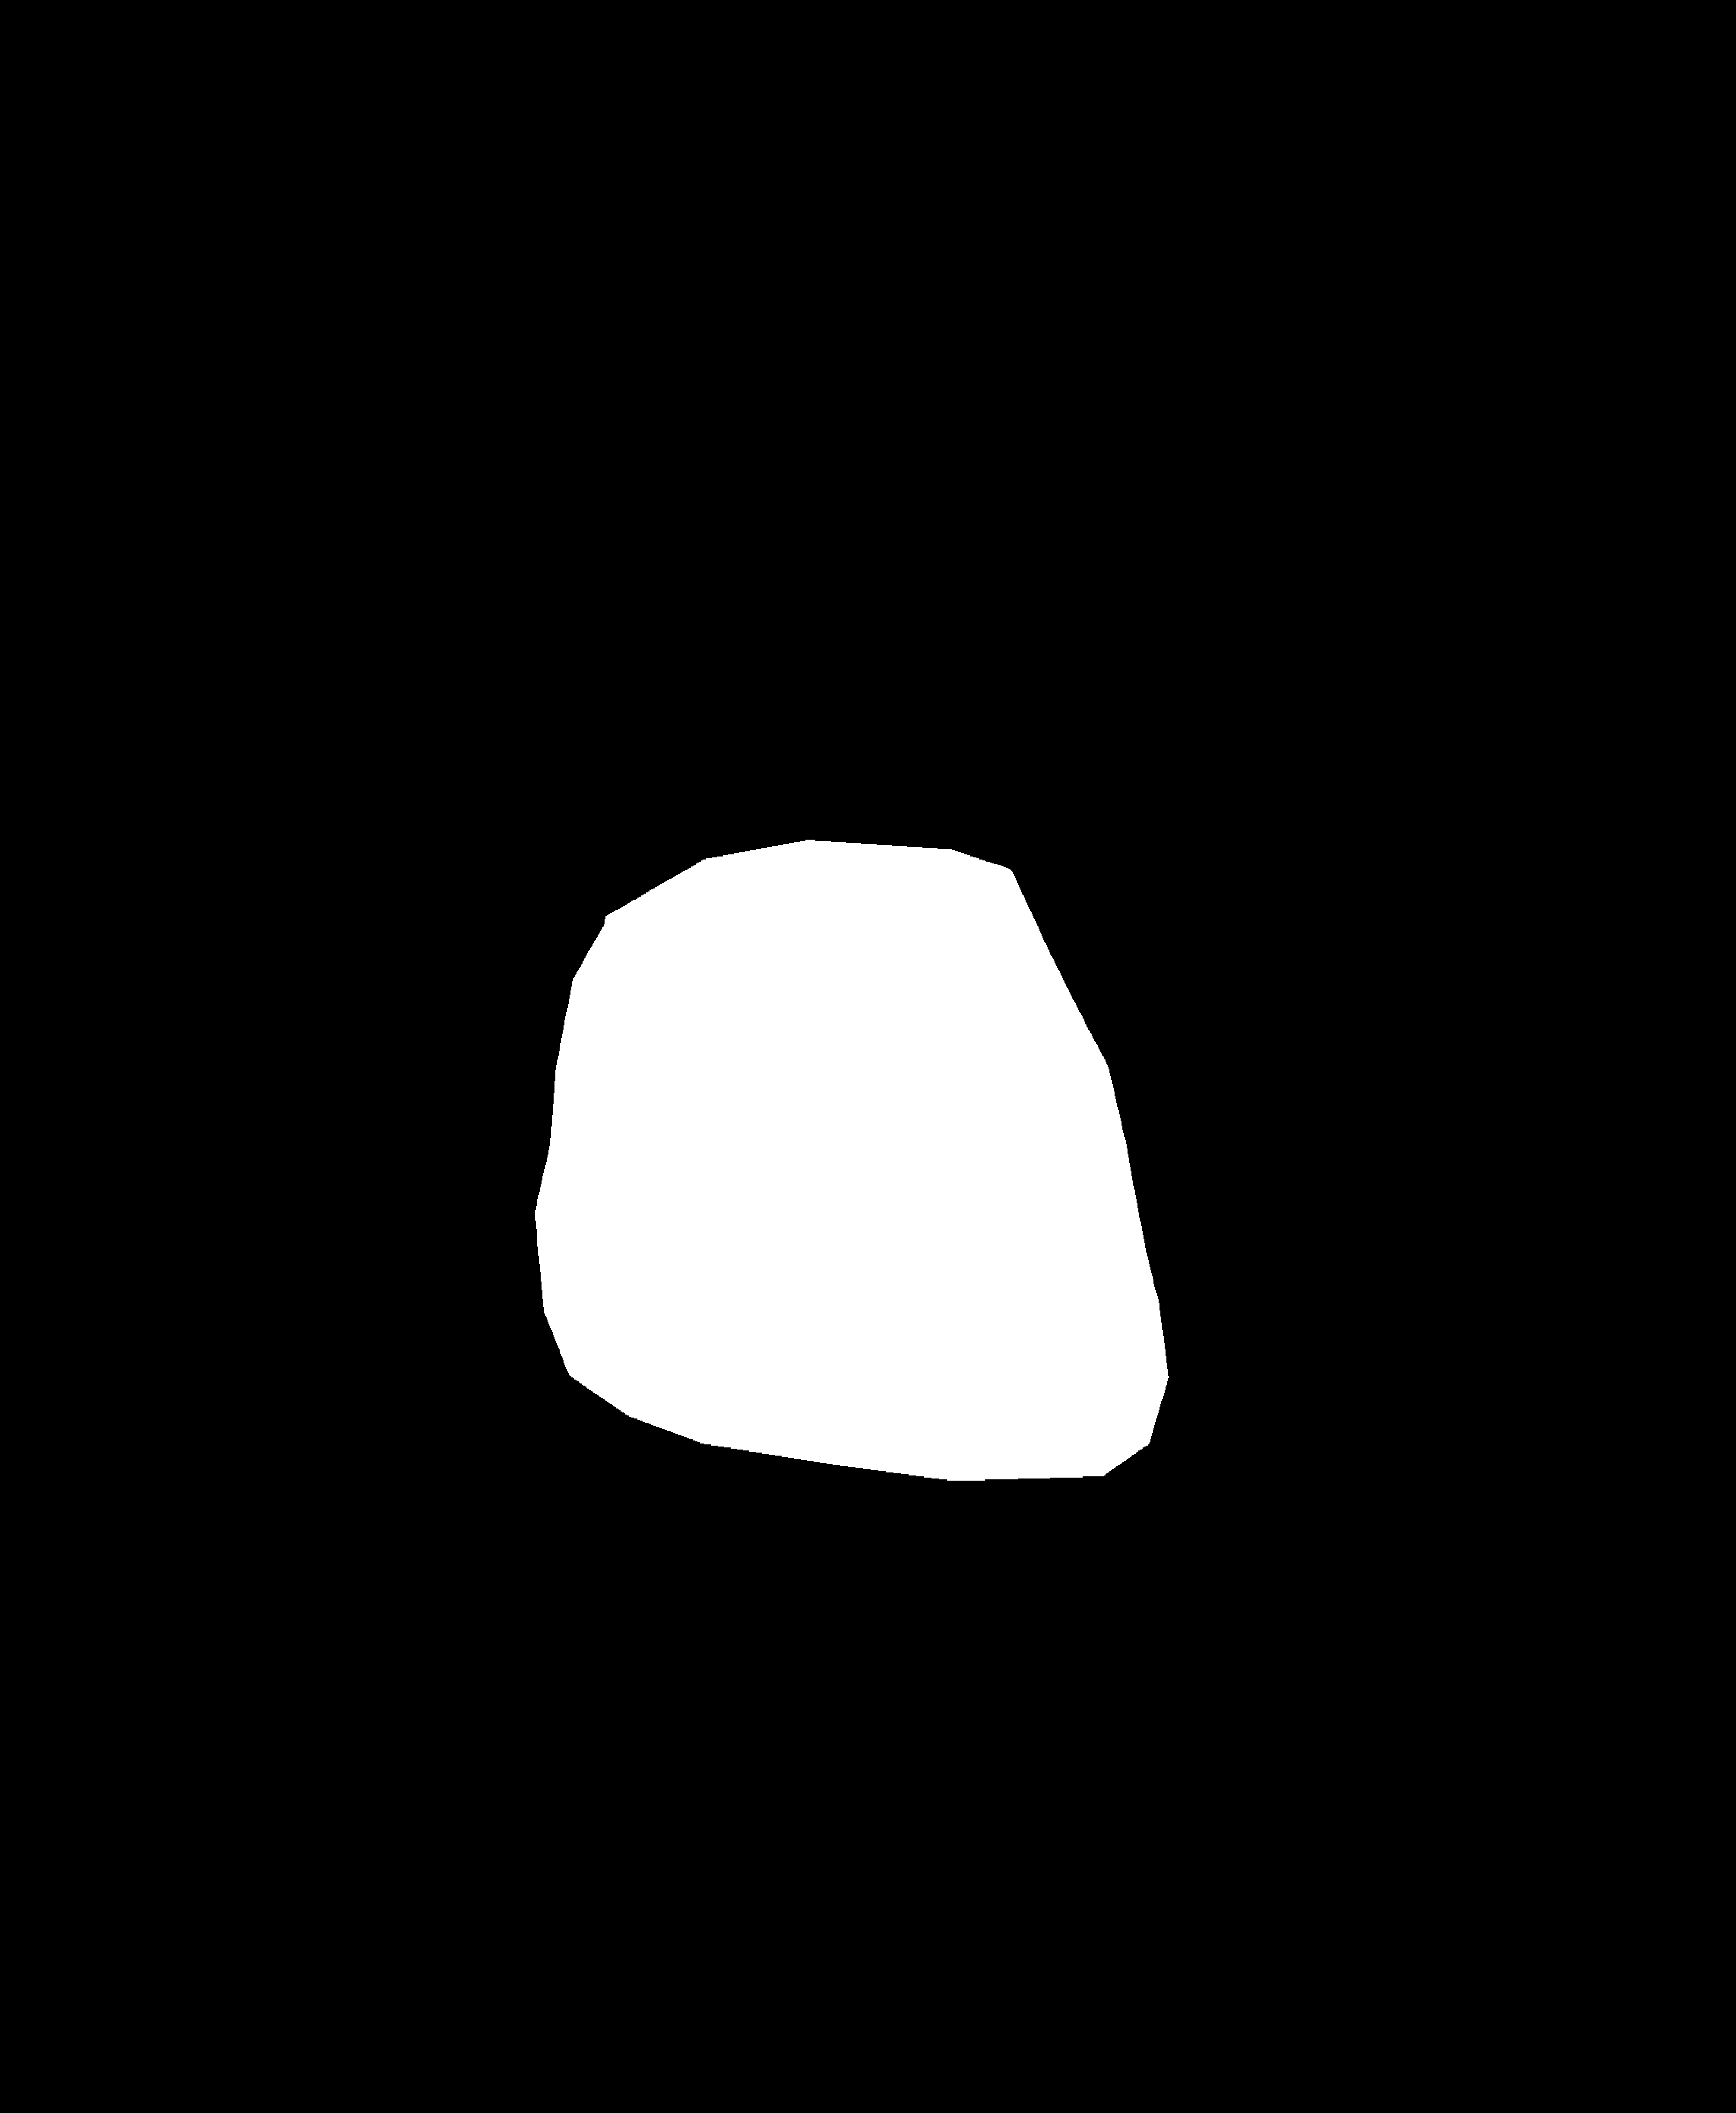heart: (537, 928, 1183, 1509)
left_lung: (81, 190, 774, 1657)
right_lung: (883, 218, 1545, 1627)
